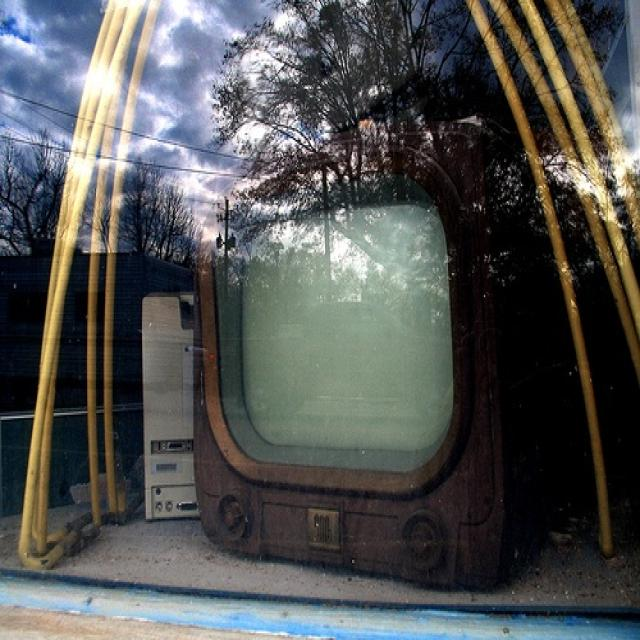tvmonitor: (193, 137, 547, 590)
